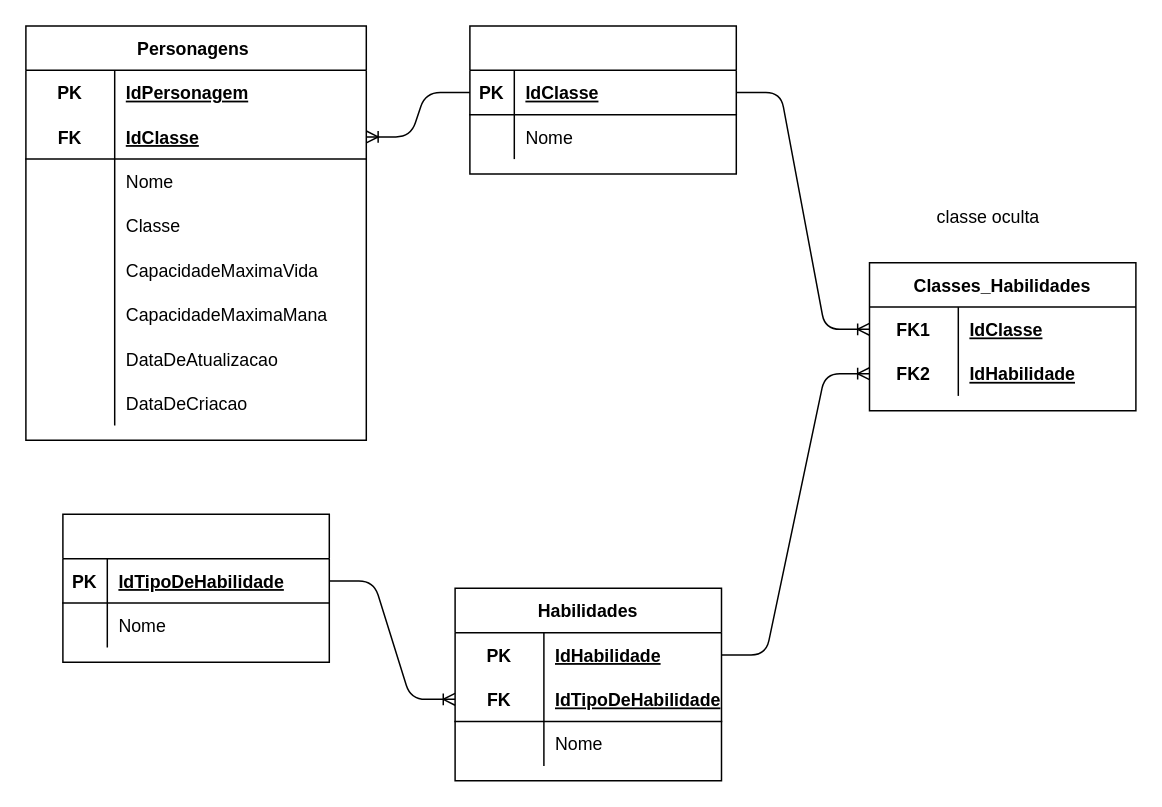
Image size: 1162x807. Some labels were removed from this diagram. The shapes that lost their labels are listed below. From the top down, each one's box as (x1, y1, x2, y2) in pixels, then its label:
(468, 24, 736, 174): Classes
(61, 513, 329, 662): TiposDeHabilidades
